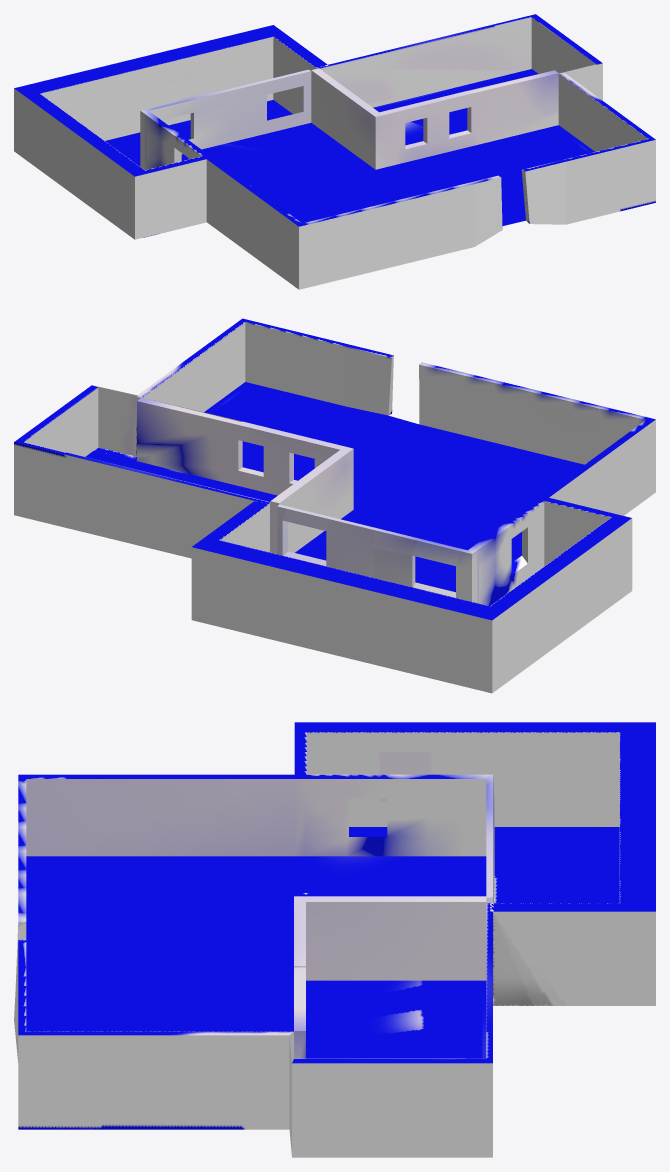
The model's file is guilda.fbx.
3 views of the same model, one above another, from view 1: azimuth 30°, elevation 25°; view 2: azimuth 150°, elevation 25°; view 3: azimuth 270°, elevation 25° (orthographic). The views are drawn at different scales.
Visible parts, largest first — view 1: Plano; view 2: Plano; view 3: Plano.
Boxes of the visible parts, x1,y1,x2,y2 form: Plano: (14, 14, 655, 289); Plano: (14, 318, 655, 693); Plano: (14, 722, 655, 1157).
Size of the model in its own units: 427 by 56.03 by 340.
